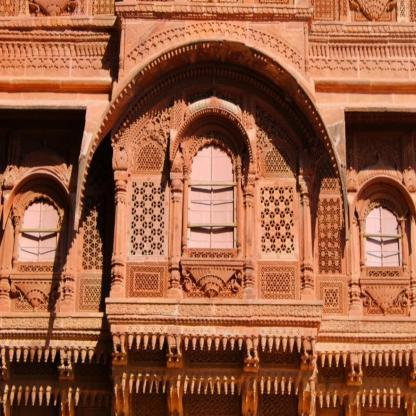Building Outline: (0, 0, 416, 415)
Cornice: (73, 35, 349, 241)
Facade: (0, 0, 416, 415)
Floor: (0, 87, 416, 312), (0, 323, 416, 416), (0, 0, 416, 76)
Floor Slab: (0, 312, 416, 323), (0, 76, 416, 87)
Molding: (0, 298, 416, 416), (0, 1, 416, 80)
Window: (186, 142, 237, 249), (16, 195, 60, 262), (365, 206, 402, 266)
